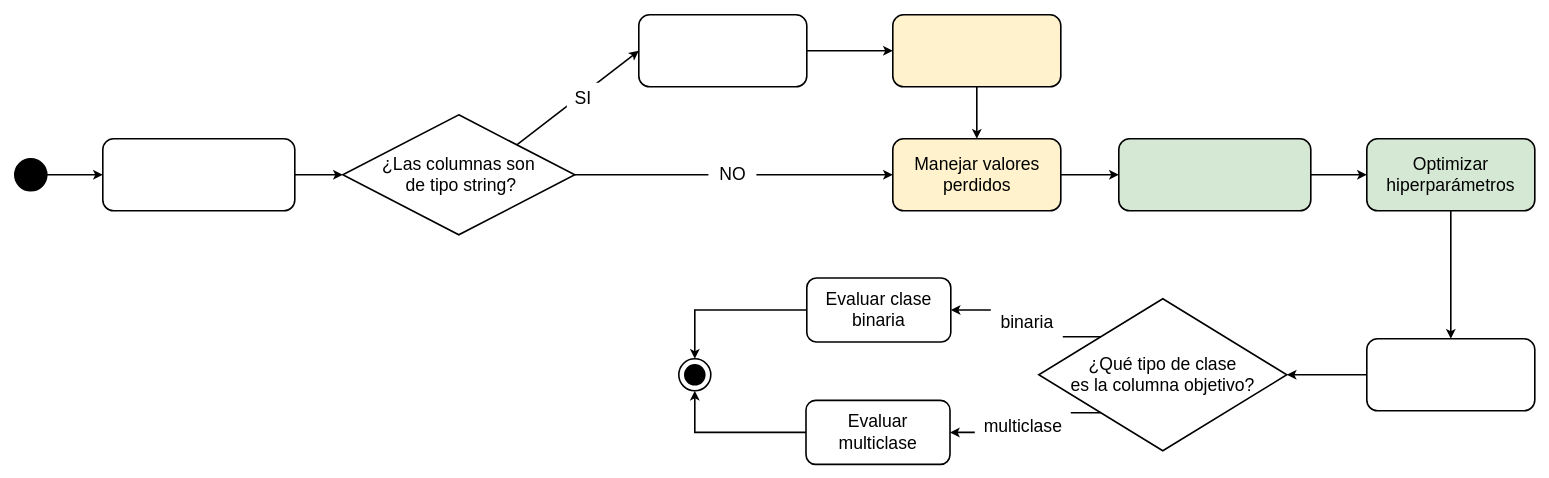
This 1549x478 diagram has some shape labels left out. Here are the shapes that lost their labels. From the top down, the box of each, then its label:
(638, 14, 807, 87): Ajustar tipo de columna
(892, 14, 1061, 87): Pre-procesar string
(102, 138, 295, 211): Dividir columnas por tipo
(1118, 138, 1311, 211): Codificar y normalizar
(1366, 338, 1535, 411): Entrenar y probar PNN
